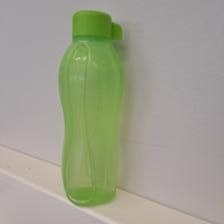bottle: (59, 9, 126, 207)
